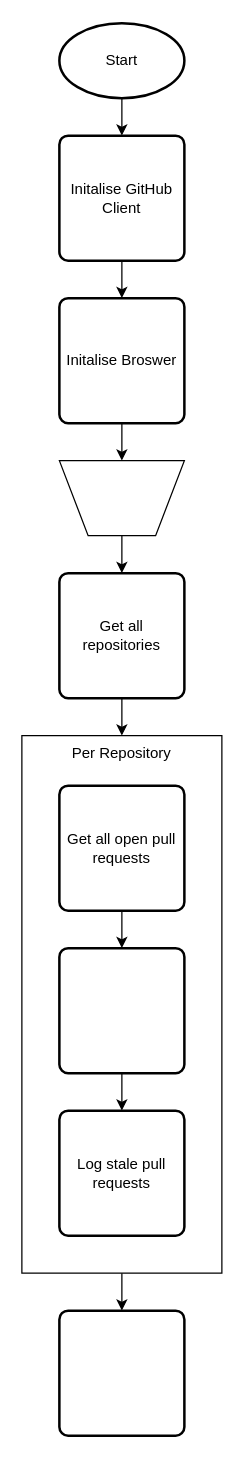
This 244x1458 diagram has some shape labels left out. Here are the shapes that lost their labels. From the top down, the centre of each, then its label:
the point at 121,497: Login to GitHub
the point at 121,1010: Close group pull requests
the point at 121,1372: Output summary to markdown file
